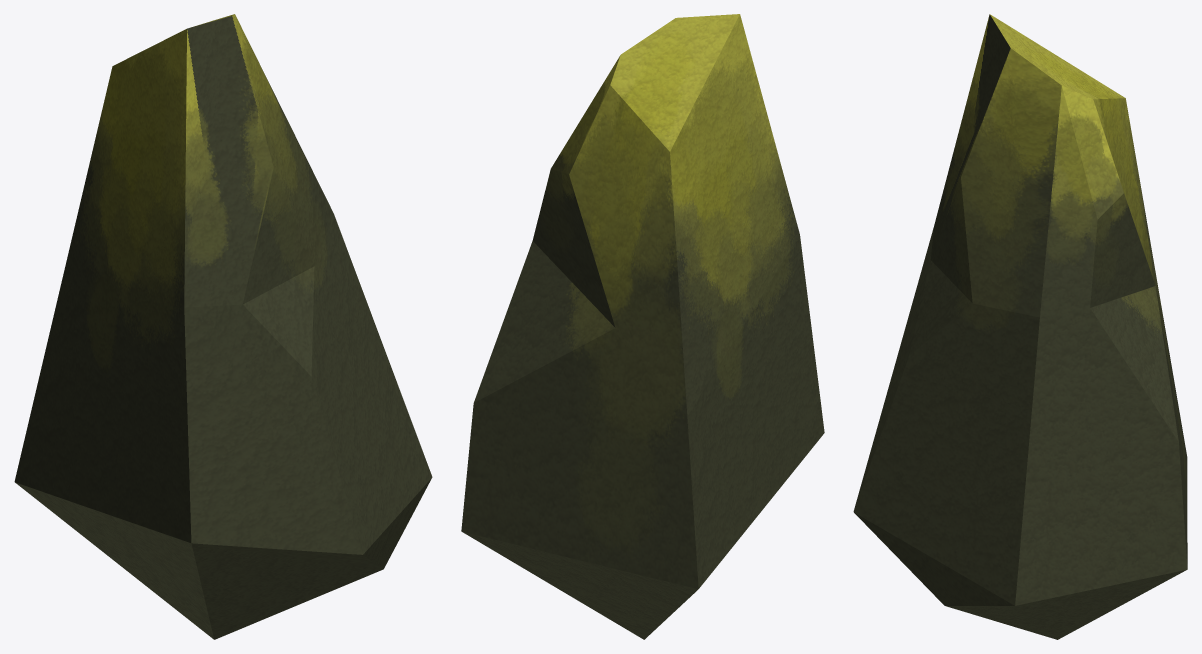
Rendered from ore3.fbx.
3 renders of one model, left to right at view 1: azimuth 30°, elevation 25°; view 2: azimuth 150°, elevation 25°; view 3: azimuth 270°, elevation 25°, orthographic. The views are drawn at different scales.
Parts seen in each view (by area): view 1: Cube.002; view 2: Cube.002; view 3: Cube.002.
Boxes of the visible parts, box(x1,y1,x2,y2) form: Cube.002: box(14, 14, 432, 639); Cube.002: box(461, 14, 824, 639); Cube.002: box(853, 14, 1187, 639).
Bounding box in the file's own units: 173 × 342 × 177.
